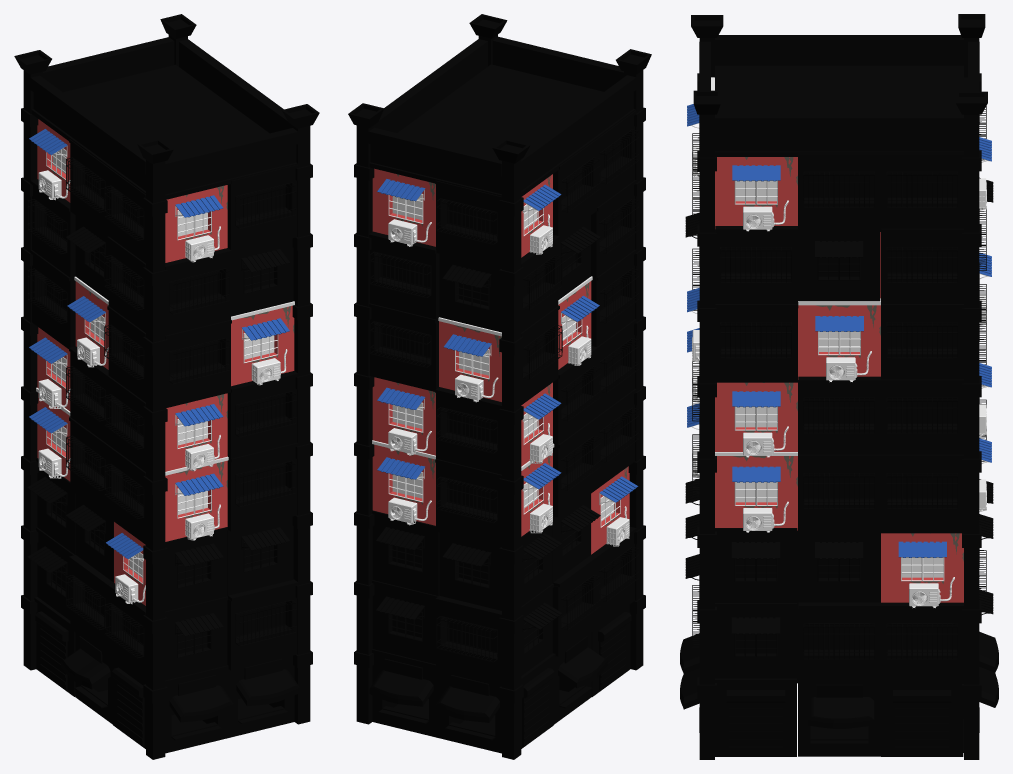
Rendered from BUILDING2.fbx.
3 renders of one model, left to right at view 1: azimuth 30°, elevation 25°; view 2: azimuth 150°, elevation 25°; view 3: azimuth 270°, elevation 25°, orthographic. The views are drawn at different scales.
Visible parts, largest first — view 1: ProcedualBuildings; view 2: ProcedualBuildings; view 3: ProcedualBuildings.
Boxes of the visible parts, <box> form: ProcedualBuildings: <box>14,14,319,759</box>; ProcedualBuildings: <box>348,14,651,759</box>; ProcedualBuildings: <box>680,14,998,759</box>.
Size of the model in its own units: 284 by 875 by 384.
